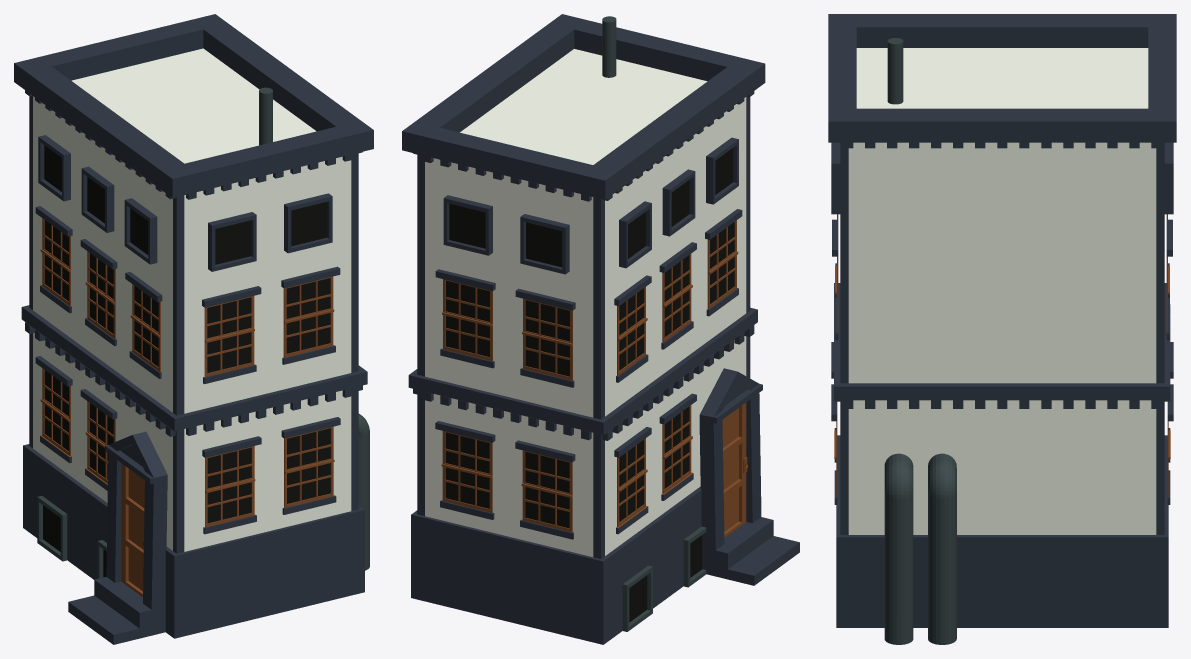
The model's file is House2.fbx.
3 views of the same model, side by side, from view 1: azimuth 30°, elevation 25°; view 2: azimuth 150°, elevation 25°; view 3: azimuth 270°, elevation 25° (orthographic). The views are drawn at different scales.
Visible parts, largest first — view 1: Main_2, Lower_rand, Side_mid_windows, Side_lower_windows, doordeco, Front_mid_windows, Mid_rand, Front_upper_windows, Side_upper_windows, Front_lower_windows, Door, Ground_windows (+6 smaller); view 2: Main_2, Lower_rand, Side_lower_windows, Side_mid_windows, doordeco, Front_mid_windows, Mid_rand, Front_lower_windows, Front_upper_windows, Side_upper_windows, Door, Ground_windows (+5 smaller); view 3: Main_2, Lower_rand, Back_vents, Mid_rand, Decocubes, Side_upper_windows, Side_lower_windows, Side_mid_windows, Decocubes.001, randomasscylinder.
Boxes of the visible parts, <box> form: Main_2: <box>14,14,373,553</box>; Lower_rand: <box>23,444,364,638</box>; Side_mid_windows: <box>202,266,340,384</box>; Side_lower_windows: <box>202,417,340,534</box>; doordeco: <box>68,454,167,644</box>; Front_mid_windows: <box>35,206,162,378</box>; Mid_rand: <box>21,305,367,431</box>; Front_upper_windows: <box>38,135,157,264</box>; Side_upper_windows: <box>208,193,332,271</box>; Front_lower_windows: <box>35,356,117,490</box>; Door: <box>121,463,144,596</box>; Ground_windows: <box>37,495,106,578</box>; Main_2: <box>402,14,765,558</box>; Lower_rand: <box>411,486,701,644</box>; Side_lower_windows: <box>435,421,575,539</box>; Side_mid_windows: <box>435,269,575,387</box>; doordeco: <box>699,393,799,585</box>; Front_mid_windows: <box>614,209,742,382</box>; Mid_rand: <box>408,307,757,434</box>; Front_lower_windows: <box>614,393,696,534</box>; Front_upper_windows: <box>619,137,738,268</box>; Side_upper_windows: <box>443,195,569,274</box>; Door: <box>722,402,749,537</box>; Ground_windows: <box>622,526,706,631</box>; Main_2: <box>828,14,1176,534</box>; Lower_rand: <box>836,435,1168,627</box>; Back_vents: <box>884,453,956,644</box>; Mid_rand: <box>834,283,1169,400</box>; Decocubes: <box>843,400,1161,408</box>; Side_upper_windows: <box>831,142,1173,214</box>; Side_lower_windows: <box>831,342,1173,504</box>; Side_mid_windows: <box>832,214,1172,340</box>; Decocubes.001: <box>843,142,1161,148</box>; randomasscylinder: <box>887,38,903,104</box>.
Bounding box in the file's own units: 8.81 × 15.32 × 8.81.
